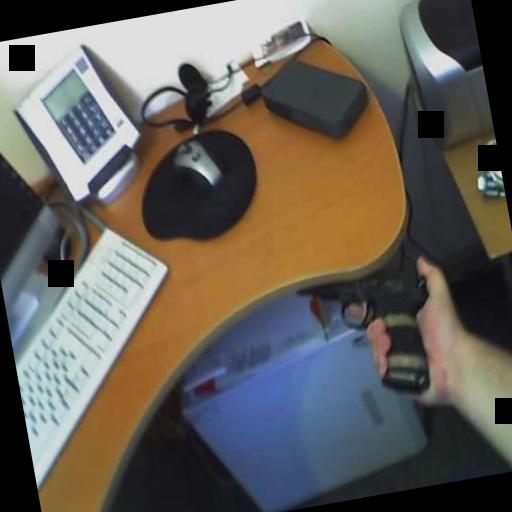Handgun: (290, 248, 443, 413)
